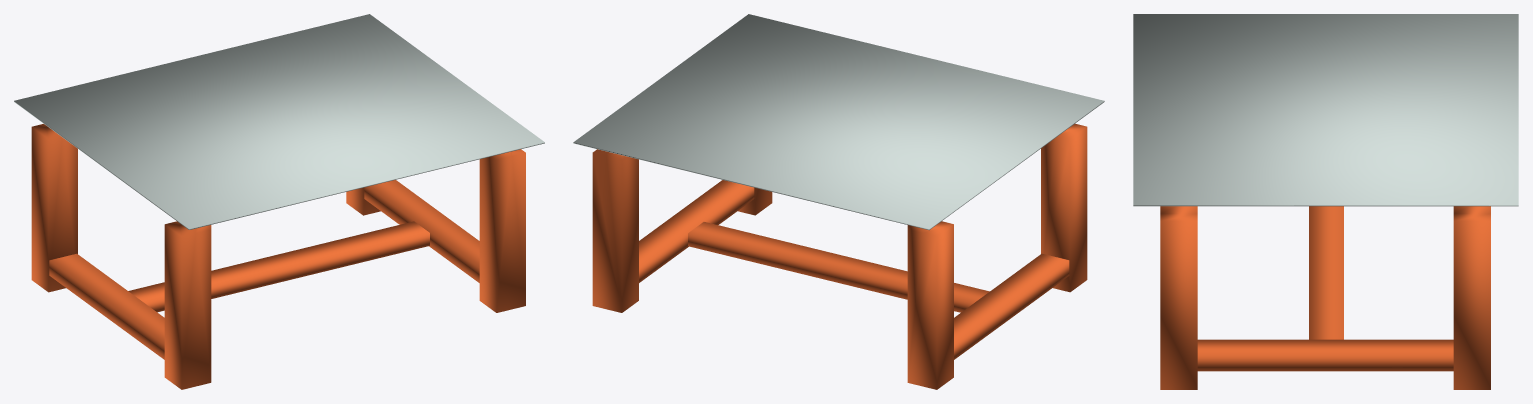
Rendered from table.dae.
The picture shows the model from 3 angles, left to right: view 1: azimuth 30°, elevation 25°; view 2: azimuth 150°, elevation 25°; view 3: azimuth 270°, elevation 25°; orthographic projection. The views are drawn at different scales.
Parts seen in each view (by area): view 1: ARShip; view 2: ARShip; view 3: ARShip.
Part boxes in pixels (box(x1,y1,x2,y2)): ARShip: box(14, 14, 544, 389); ARShip: box(573, 14, 1104, 389); ARShip: box(1133, 14, 1518, 389).
Size of the model in its own units: 0.121 by 0.0557 by 0.1033.
